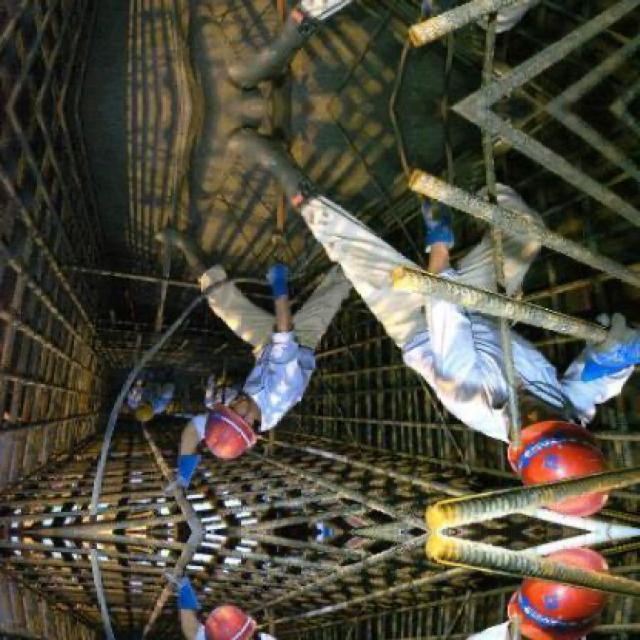con casco: (489, 375, 640, 512), (197, 387, 326, 483)
